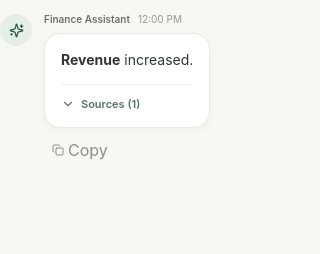
it: ChatMessage › renders the answer as markdown and expands real returned source details
Expected: the text "Revenue" is shown, [61,51,120,68]
Click the heading "Sources (1)" at (101, 104), box [61,97,140,111]
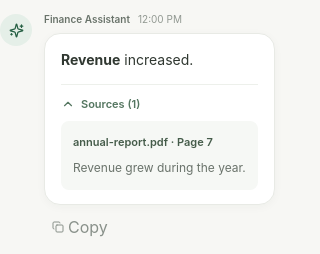
Result: the text "annual-report.pdf · Page 7" is shown at [73,136,213,150]
Result: the text "Revenue grew during the year." is shown at [73,158,246,178]
